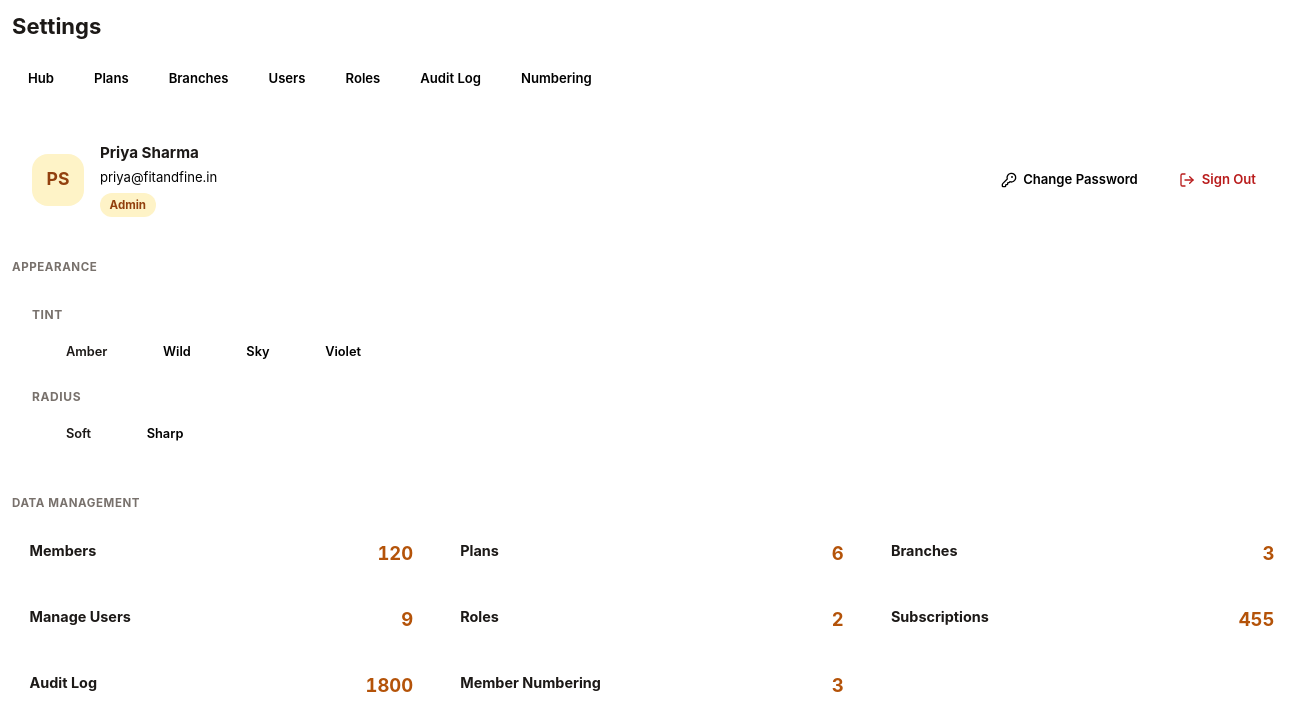
Test case: SettingsPage — account › Change Password says so when the email could not be sent
This screenshot has width=1292, height=722.
Click the button "Change Password" at (1069, 180), box [985,158,1154,202]
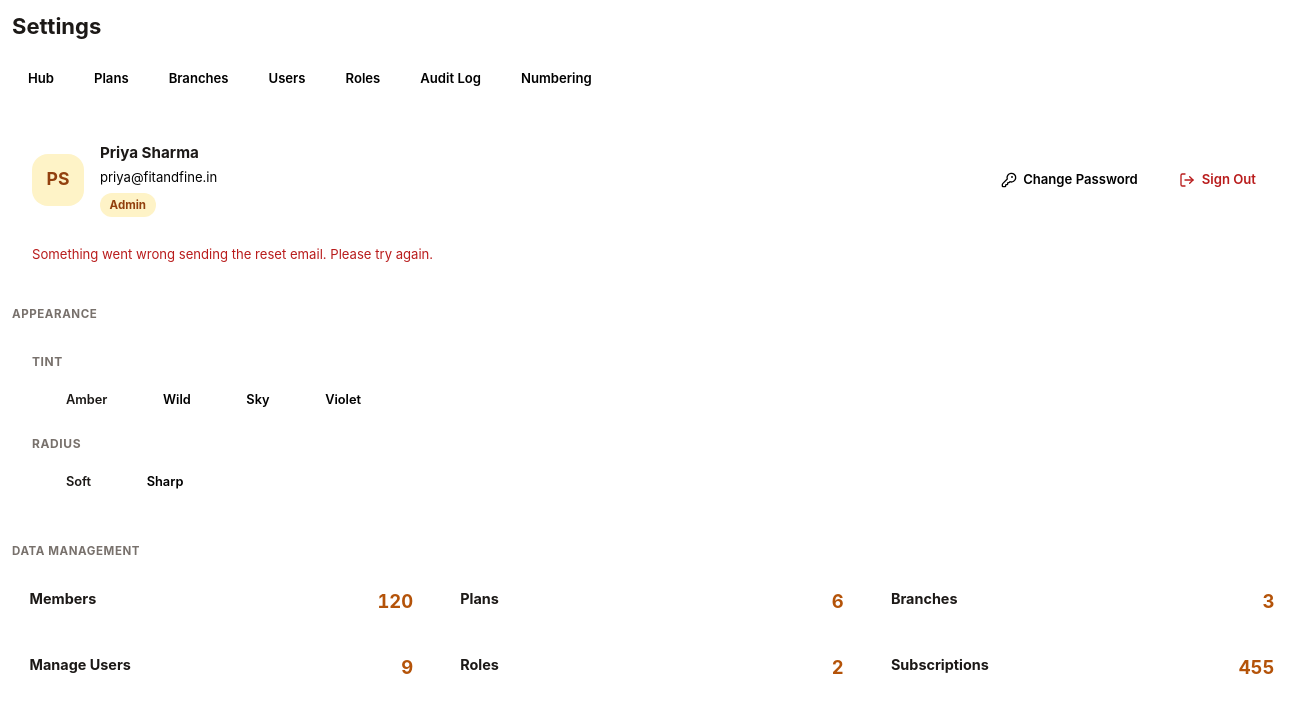
Expected: the text "Something went wrong sending the reset email. Please try again." is shown, [32,246,433,262]
